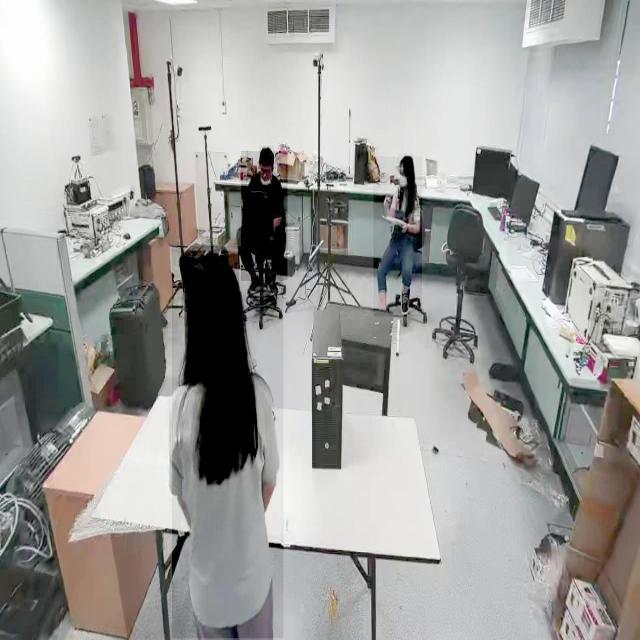face_mask: (398, 167, 410, 195)
face_nomask: (260, 166, 272, 187)
glasses: (259, 164, 273, 178)
hand_noglove: (383, 194, 391, 210), (401, 220, 408, 234)
head_nohelmet: (183, 251, 239, 293), (398, 153, 414, 168), (259, 146, 275, 160)
person: (172, 246, 284, 639), (373, 156, 422, 318), (241, 151, 288, 281)
shoes: (398, 288, 413, 318), (246, 272, 263, 298), (264, 271, 280, 297)
